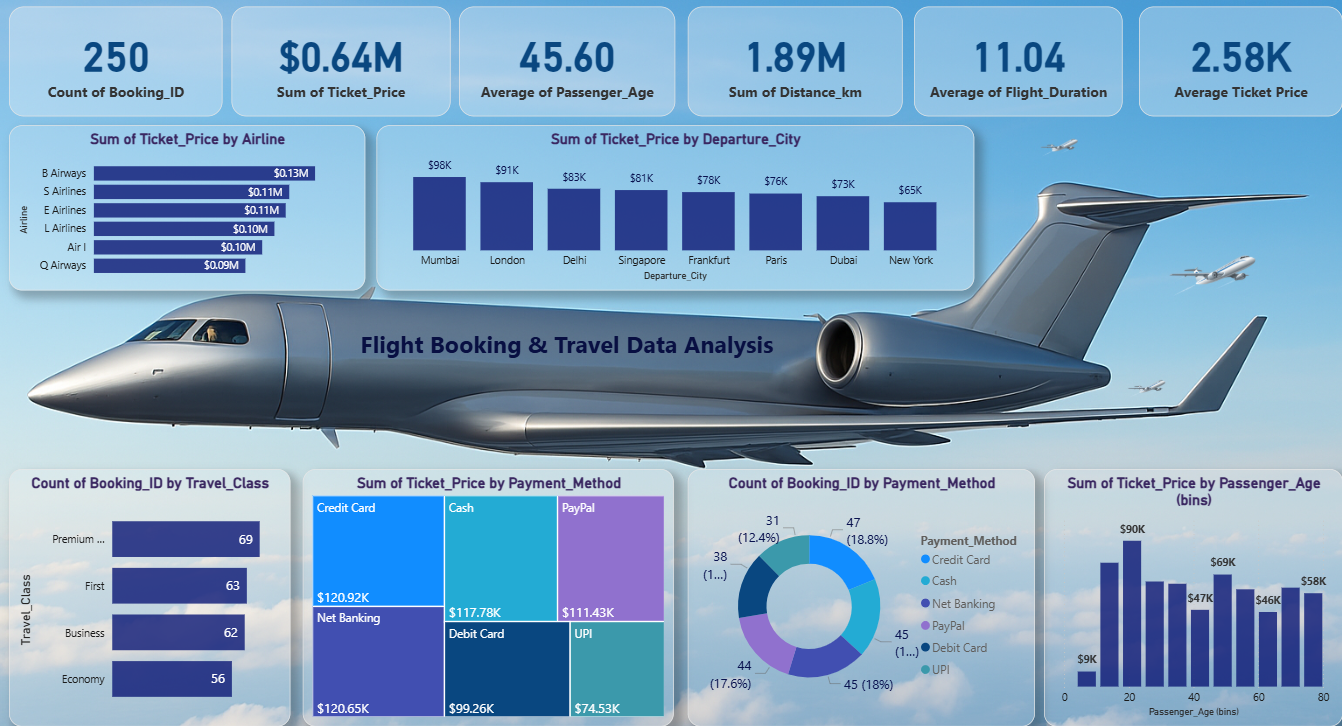

The page's visual inventory and layout, read from the dashboard file:
{"tool":"powerbi","page":{"name":"Page 1","canvas":[1536,836],"ordinal":0},"visuals":[{"type":"textbox","box":[324.3,360,602.9,85.7],"z":0},{"type":"image","box":[1271.4,287.1,230,58.6],"z":1000},{"type":"card","fields":{"Values":["Count(flight_bookings_sample.Booking_ID)"]},"box":[11.4,8.6,244.3,125.7],"z":2000},{"type":"card","fields":{"Values":["Sum(flight_bookings_sample.Ticket_Price)"]},"box":[265.7,8.6,250,125.7],"z":3000},{"type":"card","fields":{"Values":["Avg(flight_bookings_sample.Passenger_Age)"]},"box":[525.7,8.6,247.1,125.7],"z":4000},{"type":"card","fields":{"Values":["Sum(flight_bookings_sample.Distance_km)"]},"box":[787.1,8.6,245.7,125.7],"z":5000},{"type":"card","fields":{"Values":["Avg(flight_bookings_sample.Flight_Duration_hr)"]},"box":[1045.7,8.6,238.6,125.7],"z":6000},{"type":"card","fields":{"Values":["flight_bookings_sample.Average Ticket Price"]},"box":[1302.9,8.6,232.9,125.7],"z":7000},{"type":"clusteredBarChart","fields":{"Category":["flight_bookings_sample.Airline"],"Y":["Sum(flight_bookings_sample.Ticket_Price)"]},"box":[11.4,144.3,407.1,188.6],"z":8000},{"type":"columnChart","fields":{"Y":["Sum(flight_bookings_sample.Ticket_Price)"],"Category":["flight_bookings_sample.Departure_City"]},"box":[431.4,144.3,682.9,188.6],"z":9000},{"type":"clusteredBarChart","fields":{"Category":["flight_bookings_sample.Travel_Class"],"Y":["CountNonNull(flight_bookings_sample.Booking_ID)"]},"box":[11.4,537.1,321.4,294.3],"z":10000},{"type":"treemap","fields":{"Group":["flight_bookings_sample.Payment_Method"],"Values":["Sum(flight_bookings_sample.Ticket_Price)"]},"box":[347.1,537.1,424.3,294.3],"z":11000},{"type":"donutChart","fields":{"Category":["flight_bookings_sample.Payment_Method"],"Y":["CountNonNull(flight_bookings_sample.Booking_ID)"]},"box":[787.1,537.1,397.1,294.3],"z":12000},{"type":"columnChart","fields":{"Y":["Sum(flight_bookings_sample.Ticket_Price)"],"Category":["flight_bookings_sample.Passenger_Age (bins)"]},"box":[1194.3,537.1,341.4,294.3],"z":13000},{"type":"image","box":[1184.3,144.3,54.3,51.4],"z":14000},{"type":"image","box":[1284.3,420,54.3,51.4],"z":15000}]}

Visuals, with their boxes in screenshot pixels (x1, y1, x2, y2), scaled from the page's 1536x836 canvas onto the 1342x726 screenshot:
textbox: [283, 313, 810, 387]
image: [1111, 249, 1312, 300]
card - Count(flight_bookings_sample.Booking_ID): [10, 7, 223, 117]
card - Sum(flight_bookings_sample.Ticket_Price): [232, 7, 451, 117]
card - Avg(flight_bookings_sample.Passenger_Age): [459, 7, 675, 117]
card - Sum(flight_bookings_sample.Distance_km): [688, 7, 902, 117]
card - Avg(flight_bookings_sample.Flight_Duration_hr): [914, 7, 1122, 117]
card - flight_bookings_sample.Average Ticket Price: [1138, 7, 1341, 117]
clusteredBarChart - flight_bookings_sample.Airline x Sum(flight_bookings_sample.Ticket_Price): [10, 125, 366, 289]
columnChart - Sum(flight_bookings_sample.Ticket_Price) x flight_bookings_sample.Departure_City: [377, 125, 974, 289]
clusteredBarChart - flight_bookings_sample.Travel_Class x CountNonNull(flight_bookings_sample.Booking_ID): [10, 466, 291, 722]
treemap - flight_bookings_sample.Payment_Method x Sum(flight_bookings_sample.Ticket_Price): [303, 466, 674, 722]
donutChart - flight_bookings_sample.Payment_Method x CountNonNull(flight_bookings_sample.Booking_ID): [688, 466, 1035, 722]
columnChart - Sum(flight_bookings_sample.Ticket_Price) x flight_bookings_sample.Passenger_Age (bins): [1043, 466, 1341, 722]
image: [1035, 125, 1082, 170]
image: [1122, 365, 1170, 409]
